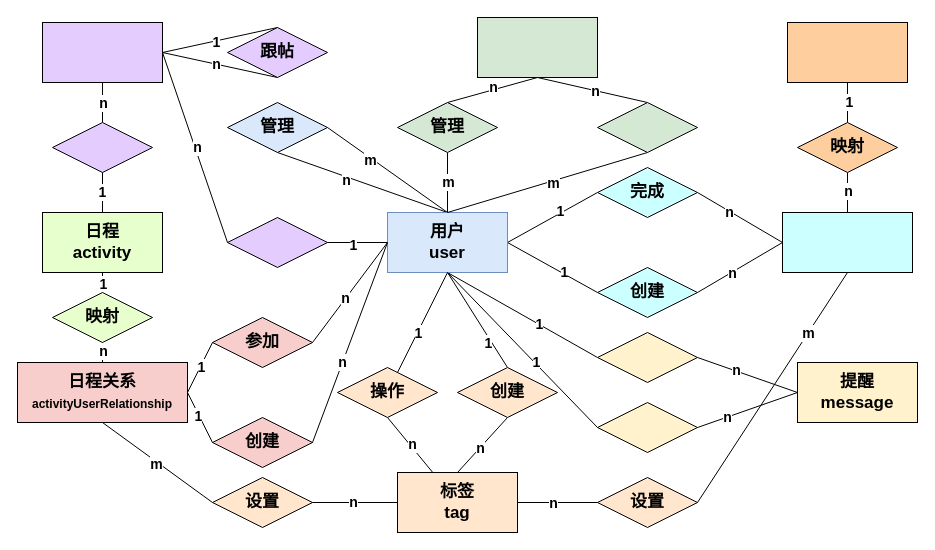
Image size: 935x550. Some labels were removed from this diagram. The shapes that lost their labels are listed below. From the top down, each one's centre as x and y in pixels, then its label:
(x=102, y=52): 评论 comment
(x=537, y=47): 班级 class
(x=847, y=52): 任务 task
(x=102, y=147): 挂载
(x=647, y=127): 属于
(x=277, y=242): 发布
(x=847, y=242): 任务关系 taskUserRelationship
(x=647, y=357): 发送
(x=647, y=427): 阅读
